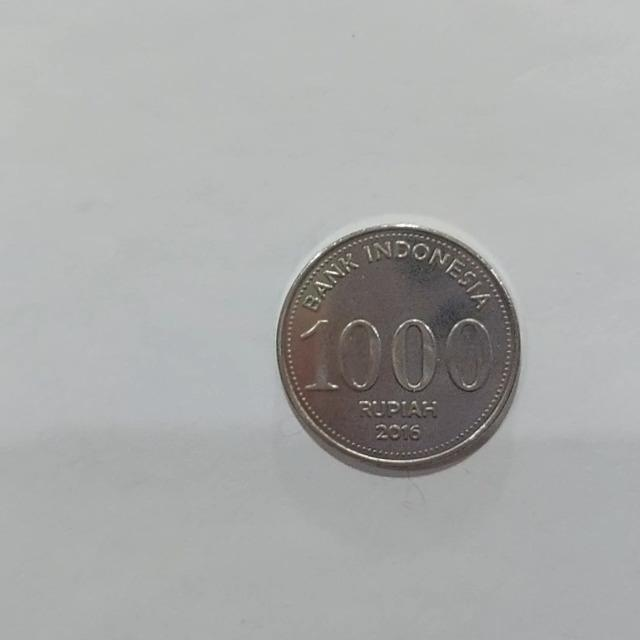Rp100: (274, 220, 522, 477)
